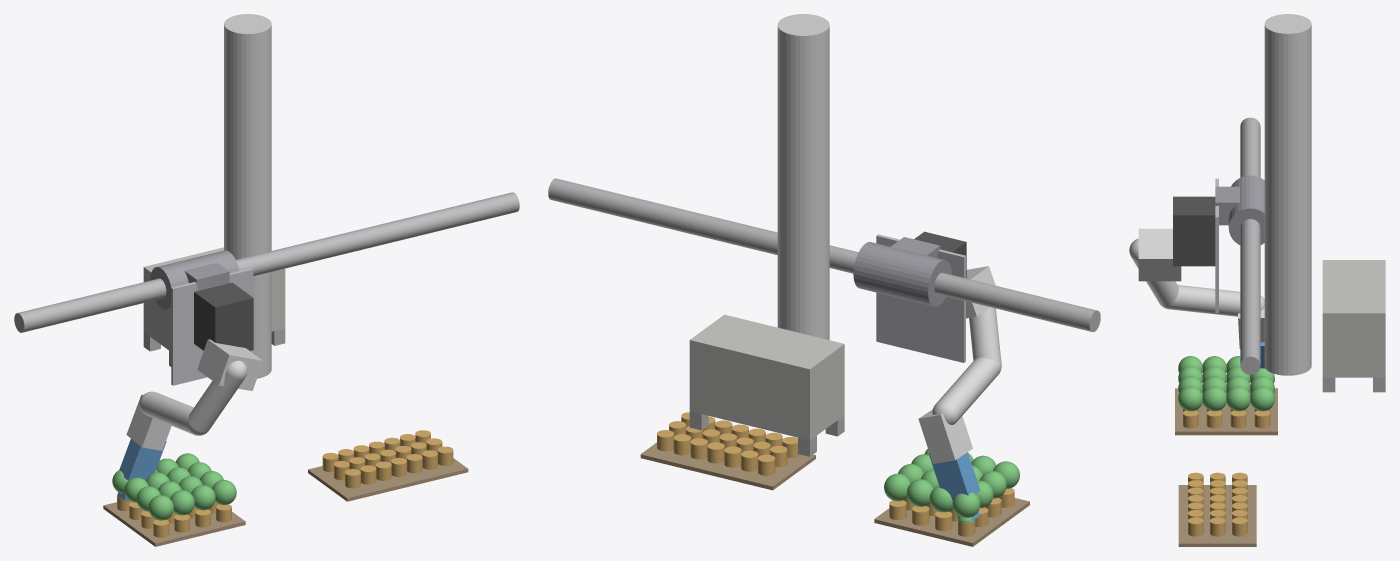
The model's file is pod-grab-roll-upright.glb.
3 views of the same model, side by side, from view 1: azimuth 30°, elevation 25°; view 2: azimuth 150°, elevation 25°; view 3: azimuth 270°, elevation 25° (orthographic). The views are drawn at different scales.
Visible parts, largest first — view 1: pillar, track_pipe, arm_base_foot, plate, station_box, store_shelf, upper_arm, shoulder_housing, tray, sleeve, forearm, wrist_housing (+2 smaller); view 2: pillar, station_box, track_pipe, plate, sleeve, store_shelf, forearm, tray, wrist_housing, gripper_body, upper_arm, shoulder_housing; view 3: pillar, station_box, track_pipe, arm_base_foot, store_shelf, shoulder_housing, tray, forearm, sleeve, upper_arm, hand_arm, lettuce_B1 (+4 smaller).
Boxes of the visible parts, <box> form: pillar: <box>224,14,271,378</box>; track_pipe: <box>14,192,519,332</box>; arm_base_foot: <box>194,282,253,350</box>; plate: <box>171,268,253,385</box>; station_box: <box>143,247,285,351</box>; store_shelf: <box>308,458,468,501</box>; upper_arm: <box>188,360,247,435</box>; shoulder_housing: <box>197,339,262,390</box>; tray: <box>103,502,245,546</box>; sleeve: <box>150,250,239,309</box>; forearm: <box>139,391,208,435</box>; wrist_housing: <box>126,394,171,450</box>; pillar: <box>777,14,829,339</box>; station_box: <box>689,314,844,440</box>; track_pipe: <box>548,178,1100,332</box>; plate: <box>876,234,965,362</box>; sleeve: <box>853,242,951,306</box>; store_shelf: <box>640,442,815,490</box>; forearm: <box>932,357,1001,424</box>; tray: <box>874,498,1029,546</box>; wrist_housing: <box>918,409,972,463</box>; gripper_body: <box>929,452,980,500</box>; upper_arm: <box>969,307,1001,373</box>; shoulder_housing: <box>966,266,995,318</box>; pillar: <box>1264,14,1311,375</box>; station_box: <box>1322,260,1385,377</box>; track_pipe: <box>1240,117,1260,374</box>; arm_base_foot: <box>1173,196,1215,266</box>; store_shelf: <box>1178,485,1256,546</box>; shoulder_housing: <box>1138,228,1181,281</box>; tray: <box>1175,388,1277,435</box>; forearm: <box>1160,285,1264,316</box>; sleeve: <box>1228,175,1264,244</box>; upper_arm: <box>1129,238,1178,309</box>; hand_arm: <box>1215,186,1239,225</box>; lettuce_B1: <box>1202,386,1226,411</box>.
Size of the model in its own units: 0.9 by 0.778 by 0.4076.
